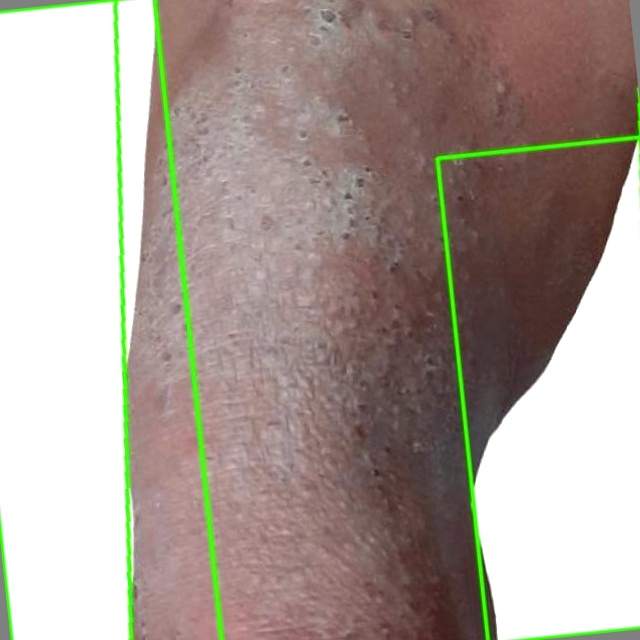Contact Dermatitis: (119, 0, 639, 639), (0, 0, 221, 639), (437, 137, 639, 639)
